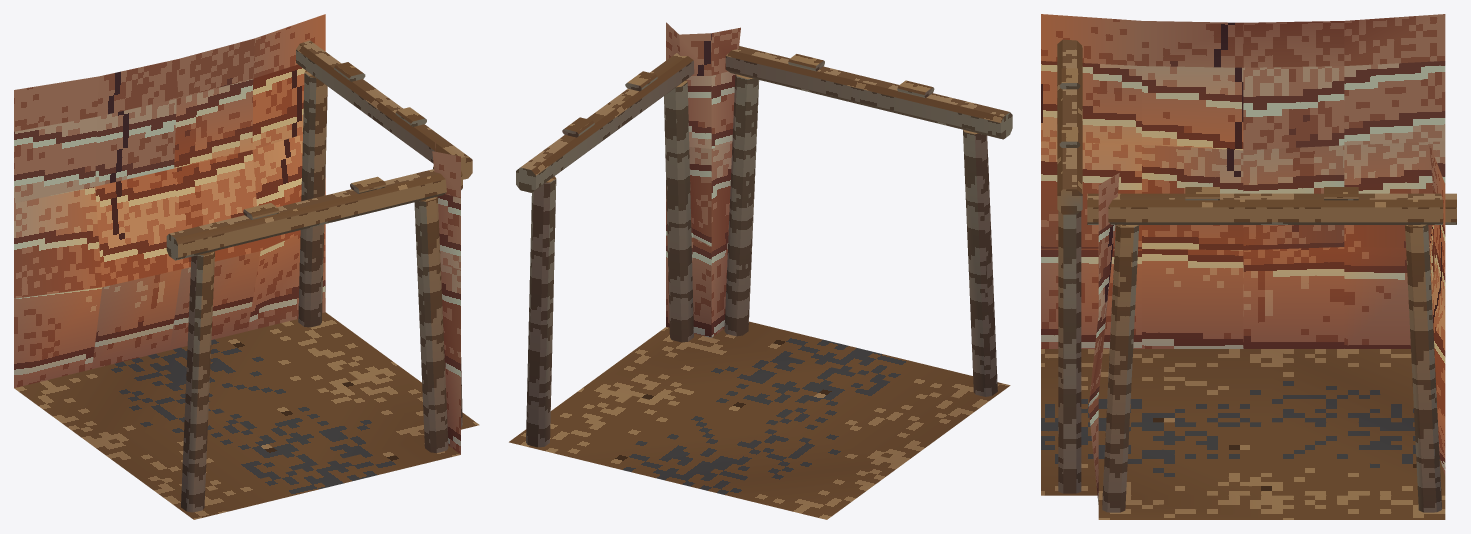
File: wmine.tunnel__corner.glb
3 renders of one model, left to right at view 1: azimuth 30°, elevation 25°; view 2: azimuth 150°, elevation 25°; view 3: azimuth 270°, elevation 25°, orthographic. The views are drawn at different scales.
Visible parts, largest first — view 1: kit_shell_walls, kit_shell_floor, kit_sets, kit_caps, kit_wedges; view 2: kit_shell_floor, kit_sets, kit_caps, kit_shell_walls, kit_wedges; view 3: kit_shell_walls, kit_shell_floor, kit_sets, kit_caps, kit_wedges.
Boxes of the visible parts, <box> form: kit_shell_walls: <box>14,14,460,454</box>; kit_shell_floor: <box>14,312,479,519</box>; kit_sets: <box>181,70,462,512</box>; kit_caps: <box>166,40,472,260</box>; kit_wedges: <box>243,62,426,219</box>; kit_shell_floor: <box>509,321,1010,519</box>; kit_sets: <box>526,74,997,447</box>; kit_caps: <box>516,46,1012,192</box>; kit_shell_walls: <box>666,22,740,337</box>; kit_wedges: <box>562,54,934,137</box>; kit_shell_walls: <box>1041,14,1445,504</box>; kit_shell_floor: <box>1041,349,1445,519</box>; kit_sets: <box>1058,211,1441,512</box>; kit_caps: <box>1057,39,1456,224</box>; kit_wedges: <box>1059,68,1358,200</box>.
Size of the model in its own units: 3.6 by 3.2 by 3.6.
Materials: 5 (5 with a texture image).
